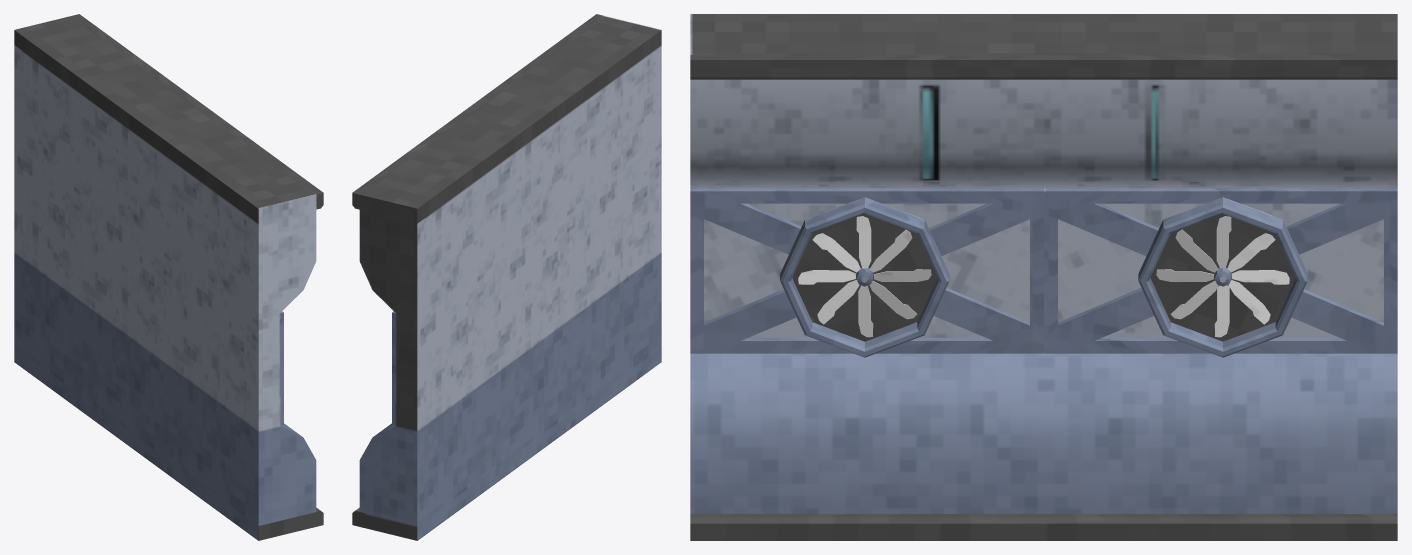
Rendered from Wall03.fbx.
The picture shows the model from 3 angles, left to right: view 1: azimuth 30°, elevation 25°; view 2: azimuth 150°, elevation 25°; view 3: azimuth 270°, elevation 25°; orthographic projection. The views are drawn at different scales.
Visible parts, largest first — view 1: Wall03; view 2: Wall03; view 3: Wall03, Wall03_Fan02, Wall03_Fan01.
Part boxes in pixels (bbox=[...]): Wall03: bbox=[14, 14, 323, 540]; Wall03: bbox=[352, 14, 661, 540]; Wall03: bbox=[690, 14, 1397, 540]; Wall03_Fan02: bbox=[1156, 216, 1289, 337]; Wall03_Fan01: bbox=[798, 216, 931, 337].
Bounding box in the file's own units: 61.67 × 300 × 400.
